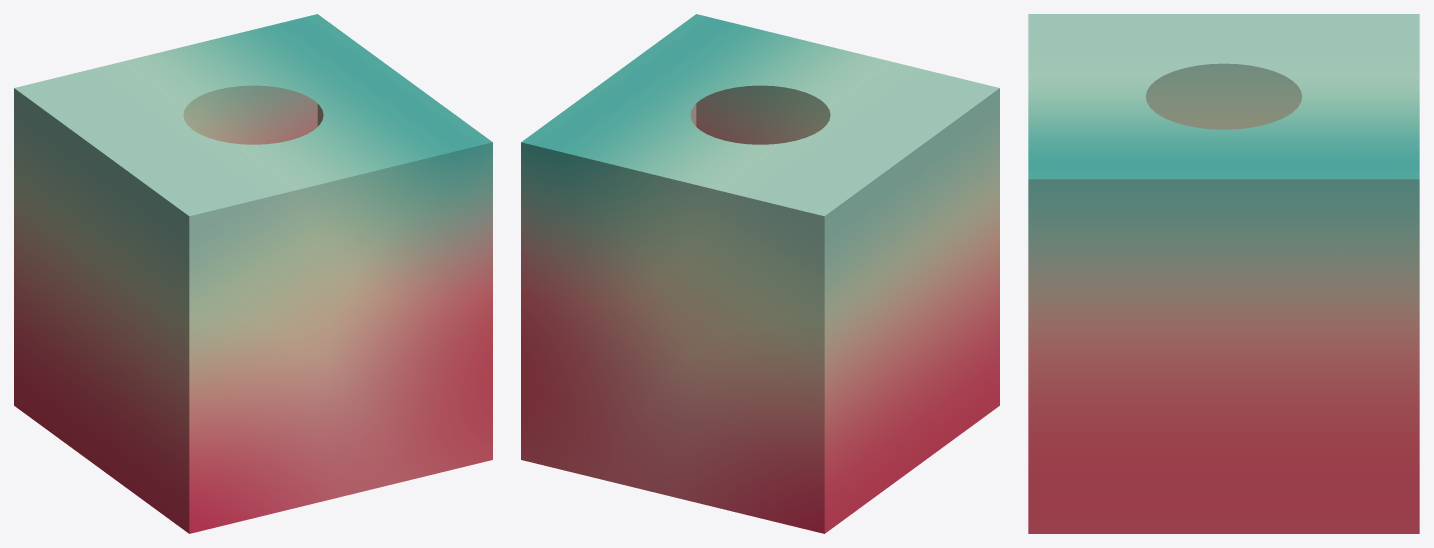
File: Wire_walls.fbx
3 renders of one model, left to right at view 1: azimuth 30°, elevation 25°; view 2: azimuth 150°, elevation 25°; view 3: azimuth 270°, elevation 25°, orthographic. The views are drawn at different scales.
Visible parts, largest first — view 1: Cube_1; view 2: Cube_1; view 3: Cube_1.
Boxes of the visible parts, box(x1,y1,x2,y2) form: Cube_1: box(14, 14, 492, 533); Cube_1: box(521, 14, 999, 533); Cube_1: box(1028, 14, 1419, 533).
Size of the model in its own units: 100 by 100 by 100.
1 material, 1 textured.
